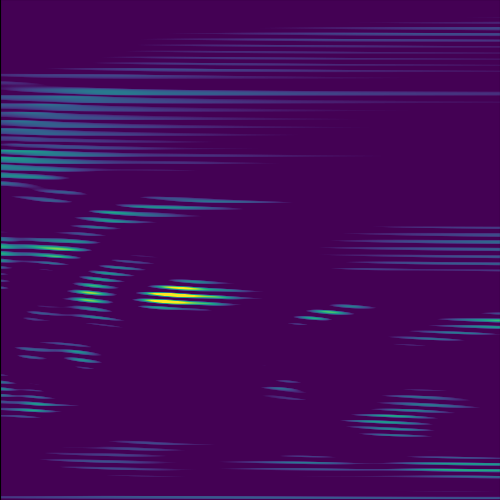semblance: (136, 274, 249, 313)
